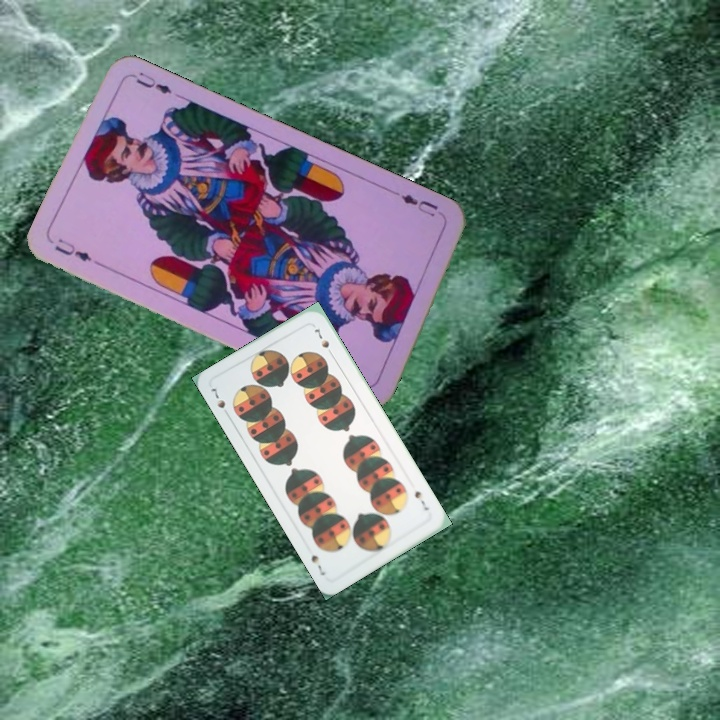EU: (50, 234, 95, 264), (397, 190, 441, 220)
S7: (410, 487, 432, 513), (207, 384, 228, 411)
